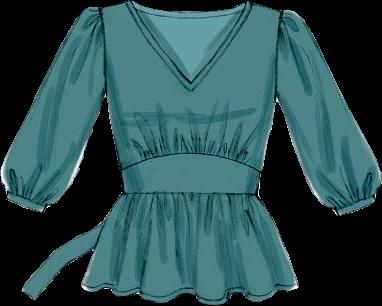Bodice: (81, 1, 298, 304)
Neckline: (130, 2, 248, 84), (119, 150, 260, 174), (123, 191, 256, 197)
Sleeve: (1, 6, 105, 212), (276, 11, 381, 215)
Sleeveline: (274, 9, 284, 103), (98, 7, 108, 92), (5, 189, 47, 208), (332, 193, 376, 211)
Waistline: (81, 283, 300, 305)
